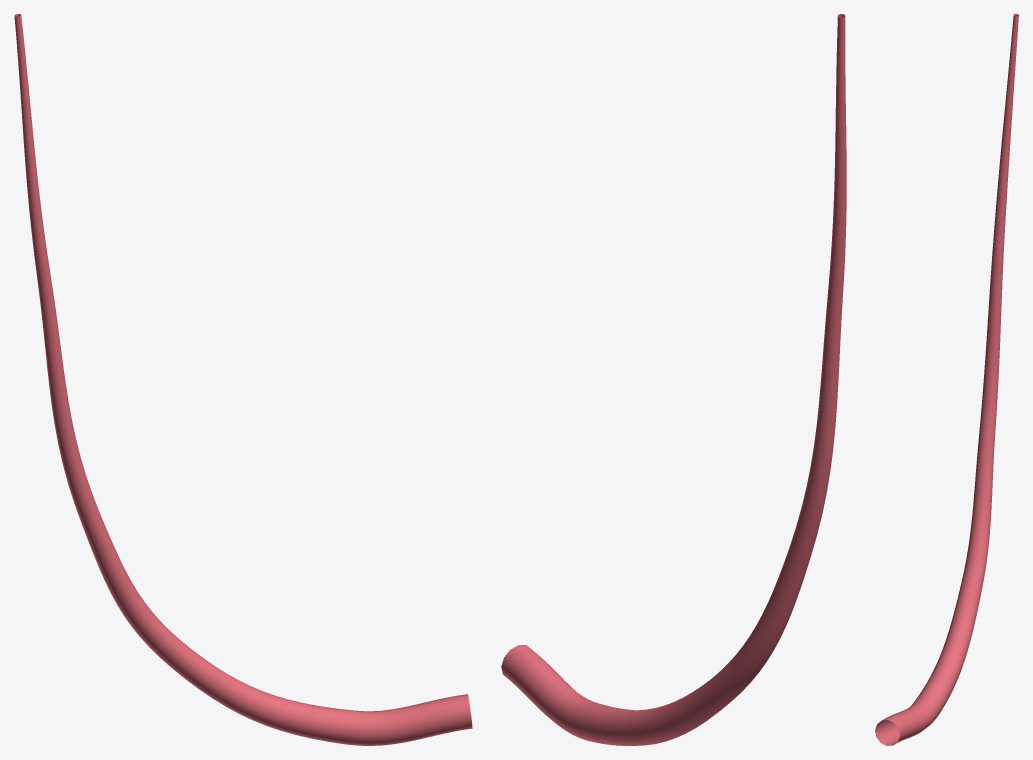
3 renders of one model, left to right at view 1: azimuth 30°, elevation 25°; view 2: azimuth 150°, elevation 25°; view 3: azimuth 270°, elevation 25°, orthographic. The views are drawn at different scales.
Parts seen in each view (by area): view 1: ZA_f7c6b86b7d566938; view 2: ZA_f7c6b86b7d566938; view 3: ZA_f7c6b86b7d566938.
Boxes of the visible parts, left/top/right/bottom form: ZA_f7c6b86b7d566938: left=14, top=14, right=472, bottom=745; ZA_f7c6b86b7d566938: left=501, top=14, right=846, bottom=745; ZA_f7c6b86b7d566938: left=875, top=14, right=1018, bottom=745.
Bounding box in the file's own units: 0.0126 × 0.024 × 0.00522.
